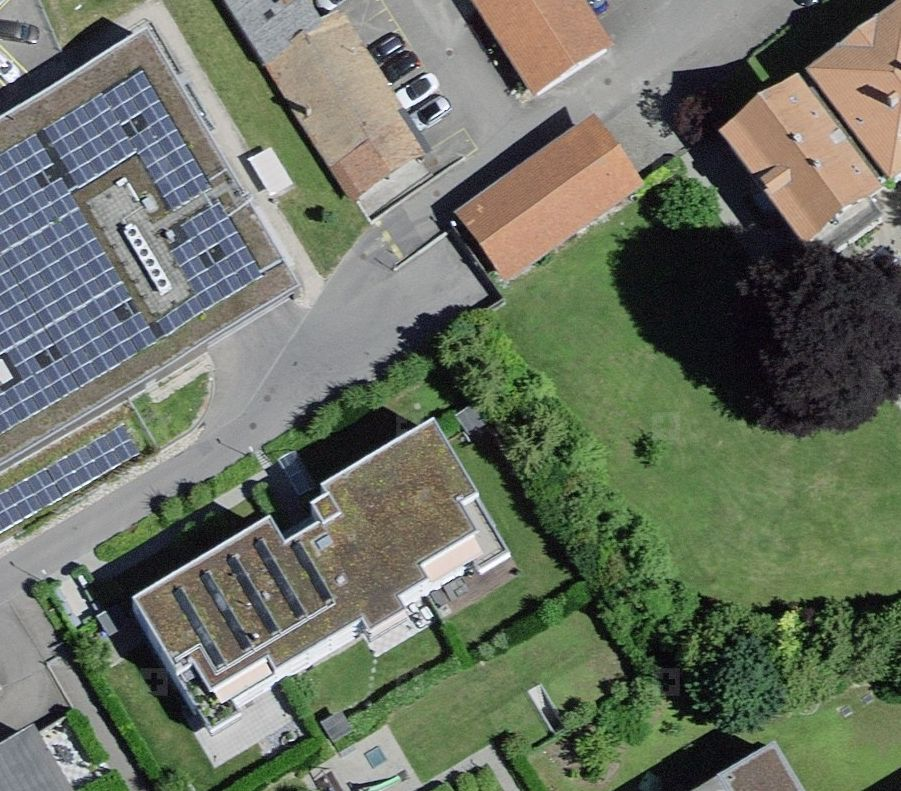solar: (1, 71, 264, 431), (167, 533, 347, 682), (1, 432, 142, 536)
